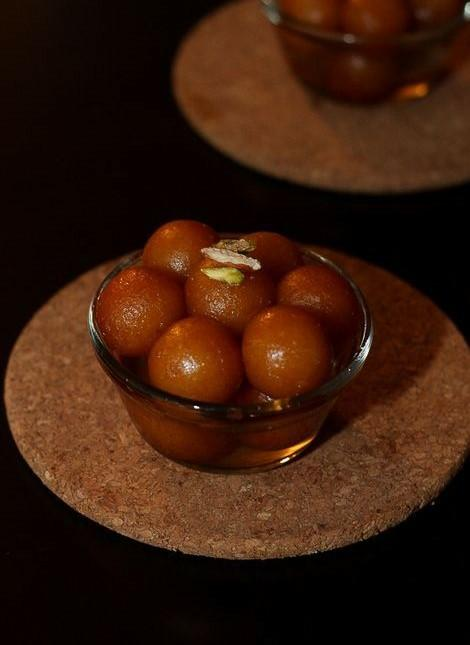GulabJamun: (176, 238, 274, 333), (237, 308, 332, 402), (96, 268, 187, 362), (156, 318, 242, 407), (279, 263, 362, 340), (221, 218, 304, 292), (339, 0, 413, 64), (141, 228, 225, 280), (281, 0, 342, 57), (333, 55, 393, 109), (416, 0, 468, 42)
